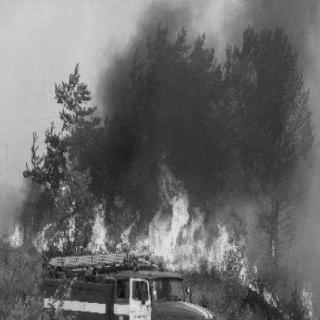Fire: (11, 161, 312, 313)
